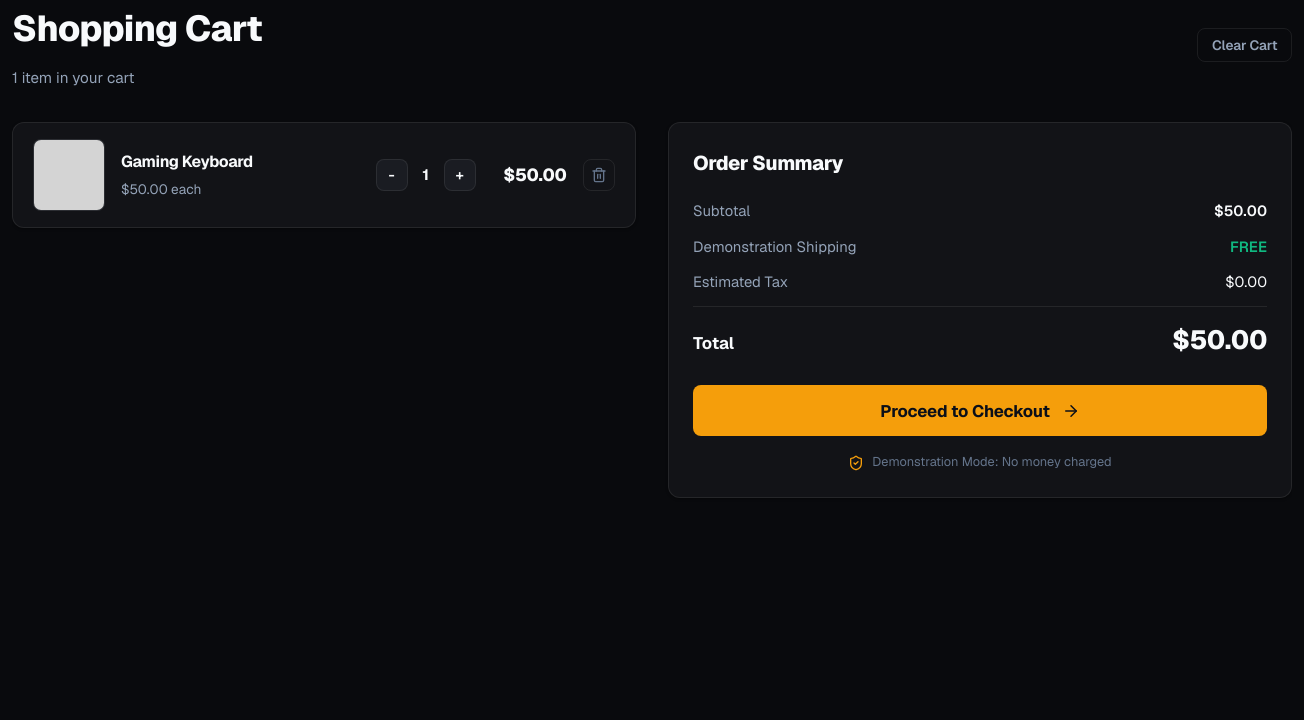
Scenario: Phase 4: Cart Management Frontend Tests › T-CART-UI-03: Clicking remove button deletes line item from cart
Expected: the heading "Gaming Keyboard" is shown, [121,151,253,172]
Click the button named "remove gaming keyboard" at point(599, 175), box [583,159,615,191]
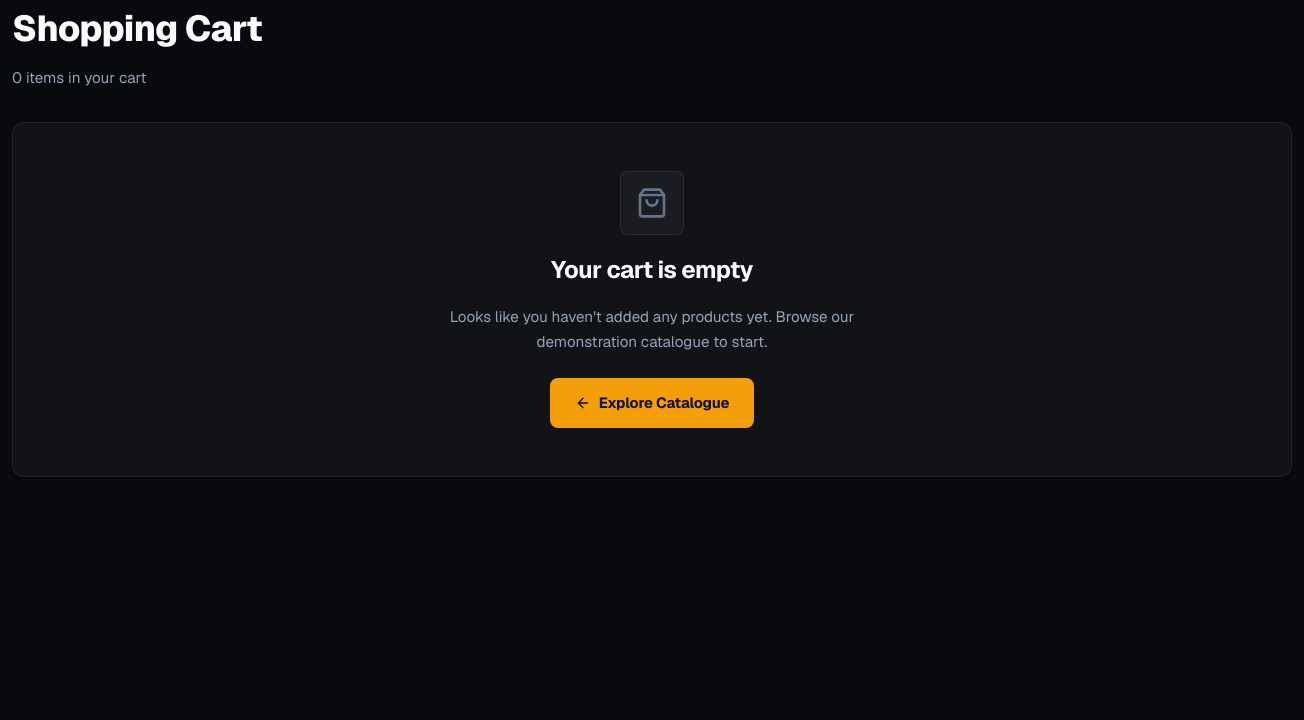
Now the heading "Gaming Keyboard" is gone
Now the heading "Your cart is empty" is shown, box [551,251,753,289]
